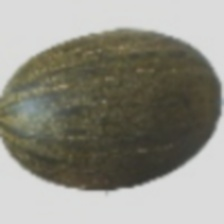honeydew: (34, 18, 218, 207)
